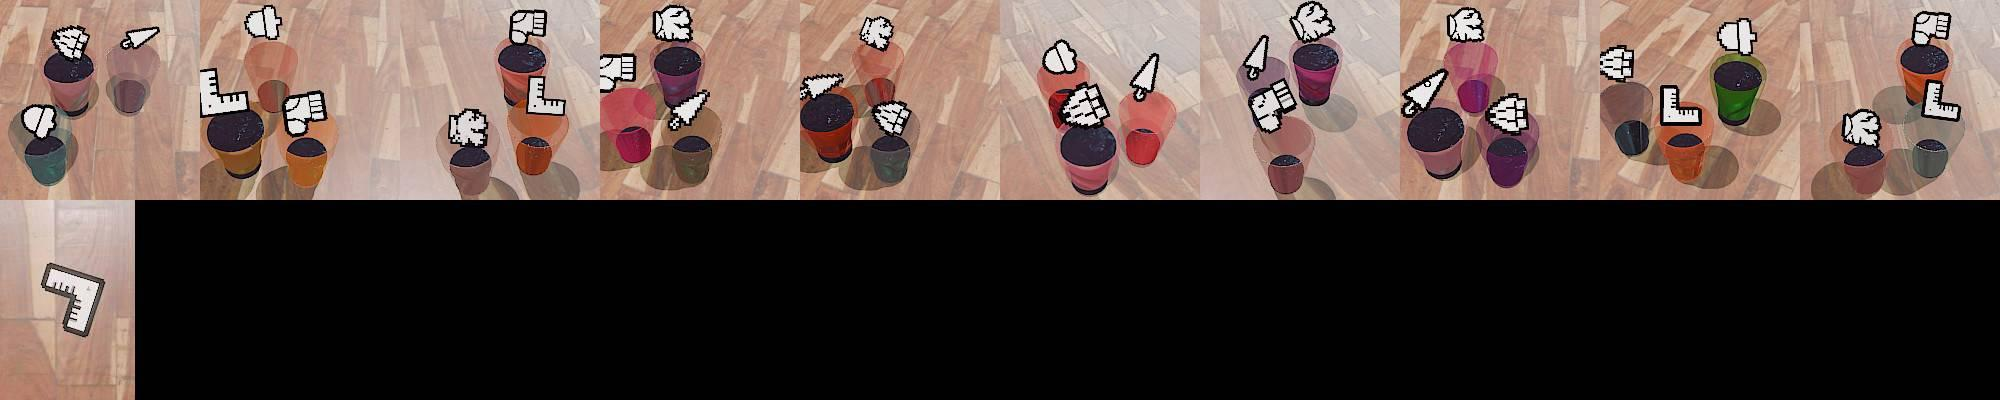icon: (41, 262, 106, 339), (199, 65, 251, 120), (1247, 78, 1297, 132), (1057, 80, 1111, 127), (1403, 68, 1448, 116), (282, 89, 327, 136), (1290, 0, 1335, 43), (1486, 92, 1529, 135), (1659, 84, 1704, 126), (524, 75, 566, 118), (666, 88, 708, 130), (1921, 79, 1962, 122), (446, 107, 490, 148), (1716, 18, 1758, 59), (652, 4, 694, 43), (20, 102, 60, 143), (1128, 51, 1159, 101), (1842, 108, 1881, 148), (871, 99, 912, 136), (1911, 10, 1952, 47), (798, 71, 846, 103), (244, 4, 283, 41), (1445, 6, 1485, 43), (598, 52, 638, 89), (51, 25, 92, 61), (1042, 38, 1079, 75), (1599, 45, 1635, 83), (509, 9, 548, 43), (858, 14, 894, 51), (1242, 33, 1269, 79), (121, 25, 161, 51)
